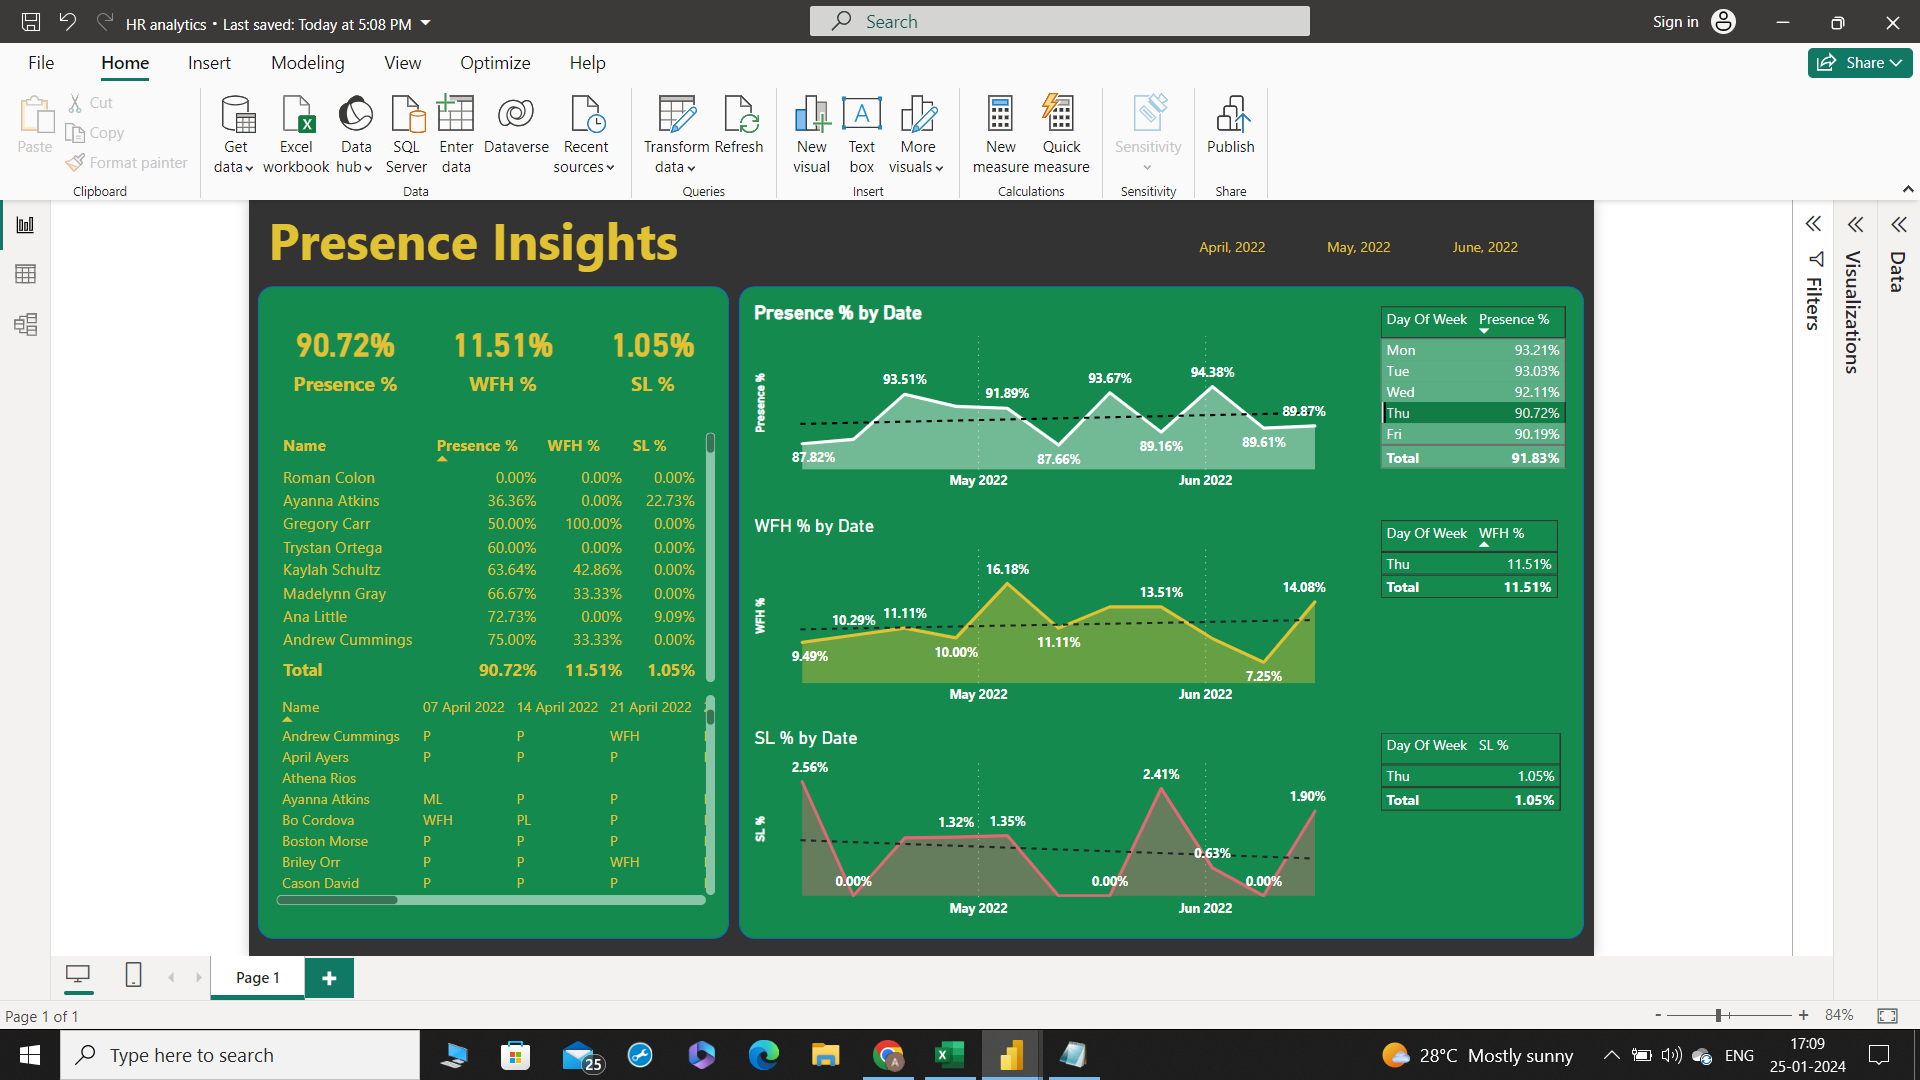

The page's visual inventory and layout, read from the dashboard file:
{"tool":"powerbi","page":{"name":"Page 1","canvas":[1280,720],"ordinal":0},"visuals":[{"type":"shape","box":[8.3,82.1,448.7,621.2],"z":0},{"type":"shape","box":[466.5,82.1,804.5,621.2],"z":1000},{"type":"card","fields":{"Values":["Measure Table.Presence %"]},"box":[21.4,96.4,140.4,104.7],"z":2000},{"type":"slicer","fields":{"Values":["Final Data.Month"]},"box":[850.9,15.5,409.4,58.3],"z":3000},{"type":"card","fields":{"Values":["Measure Table.WFH %"]},"box":[185.7,96.4,111.9,104.7],"z":4000},{"type":"card","fields":{"Values":["Measure Table.SL %"]},"box":[320.1,96.4,128.5,104.7],"z":5000},{"type":"tableEx","fields":{"Values":["Final Data.Name","Measure Table.Presence %","Measure Table.WFH %","Measure Table.SL %"]},"box":[21.4,216.6,427.2,247.5],"z":6000},{"type":"textbox","box":[0,0,427.2,80.9],"z":7000},{"type":"pivotTable","fields":{"Rows":["Final Data.Name"],"Columns":["Final Data.Date"],"Values":["Min(Final Data.Value)"]},"box":[21.4,466.5,427.2,209.5],"z":8000},{"type":"areaChart","fields":{"Y":["Measure Table.Presence %"],"Category":["Final Data.Date"]},"box":[476,96.4,570,189.2],"z":9000},{"type":"areaChart","fields":{"Y":["Measure Table.WFH %"],"Category":["Final Data.Date"]},"box":[476,299.9,570,189.2],"z":10000},{"type":"areaChart","fields":{"Y":["Measure Table.SL %"],"Category":["Final Data.Date"]},"box":[476,502.2,570,190.4],"z":11000},{"type":"tableEx","fields":{"Values":["Final Data.Day Of Week","Measure Table.Presence %"]},"box":[1071.1,96.4,189.2,174.9],"z":12000},{"type":"tableEx","fields":{"Values":["Final Data.Day Of Week","Measure Table.WFH %"]},"box":[1071.1,299.9,189.2,164.2],"z":13000},{"type":"tableEx","fields":{"Values":["Final Data.Day Of Week","Measure Table.SL %"]},"box":[1071.1,502.2,189.2,164.2],"z":14000}]}

Visuals, with their boxes on the page's 1280x720 design canvas (x1, y1, x2, y2). These are canvas units, not pixel positions in the 1920x1080 screenshot, which may show the page scaled, cropped or inside an application window:
shape: box=[8, 82, 457, 703]
shape: box=[466, 82, 1271, 703]
card - Measure Table.Presence %: box=[21, 96, 162, 201]
slicer - Final Data.Month: box=[851, 16, 1260, 74]
card - Measure Table.WFH %: box=[186, 96, 298, 201]
card - Measure Table.SL %: box=[320, 96, 449, 201]
tableEx - Final Data.Name x Measure Table.Presence %: box=[21, 217, 449, 464]
textbox: box=[0, 0, 427, 81]
pivotTable - Final Data.Name x Final Data.Date: box=[21, 466, 449, 676]
areaChart - Measure Table.Presence % x Final Data.Date: box=[476, 96, 1046, 286]
areaChart - Measure Table.WFH % x Final Data.Date: box=[476, 300, 1046, 489]
areaChart - Measure Table.SL % x Final Data.Date: box=[476, 502, 1046, 693]
tableEx - Final Data.Day Of Week x Measure Table.Presence %: box=[1071, 96, 1260, 271]
tableEx - Final Data.Day Of Week x Measure Table.WFH %: box=[1071, 300, 1260, 464]
tableEx - Final Data.Day Of Week x Measure Table.SL %: box=[1071, 502, 1260, 666]
